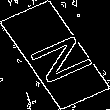N_NE: (15, 25, 95, 85)
